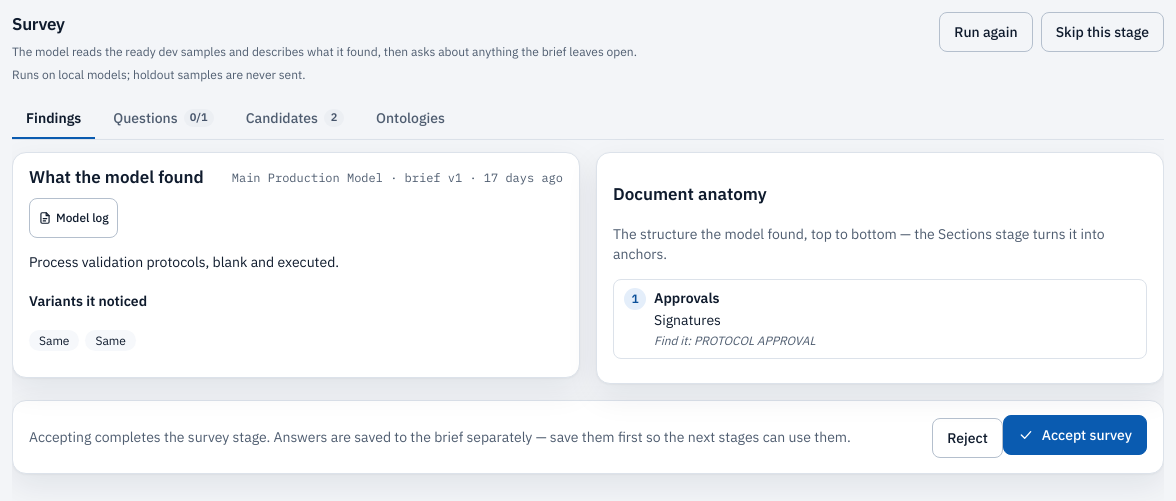
Test: SurveyTab › keeps rows whose names or strings repeat
Expected: the number of list items "Same" is 2, [29,330,80,351]; [86,330,136,351]
Click the tab "Candidates 2" at (295, 119), box [232,99,358,139]
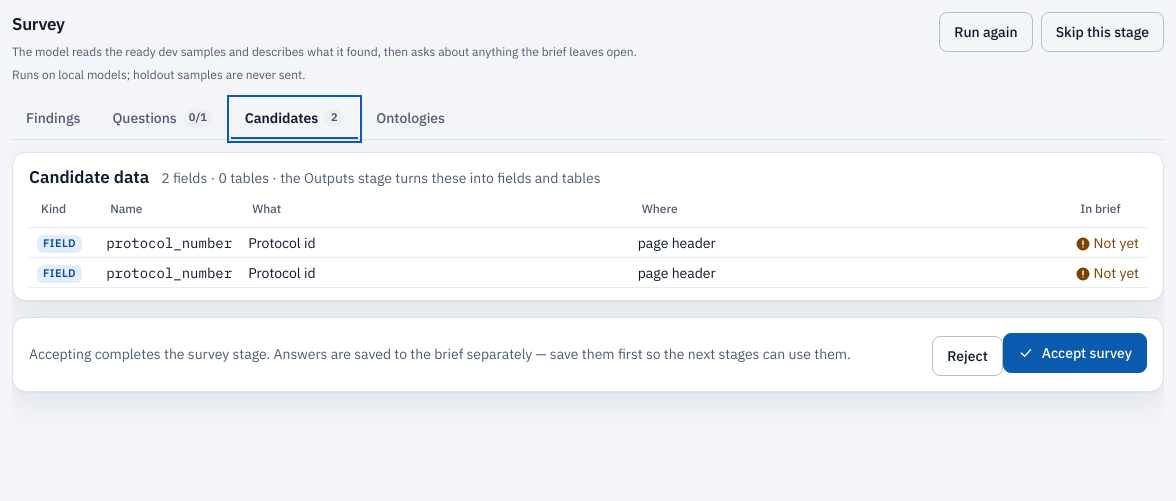
Now the text "protocol_number" is shown 2 times, box [106,234,232,252]; [106,264,232,282]
